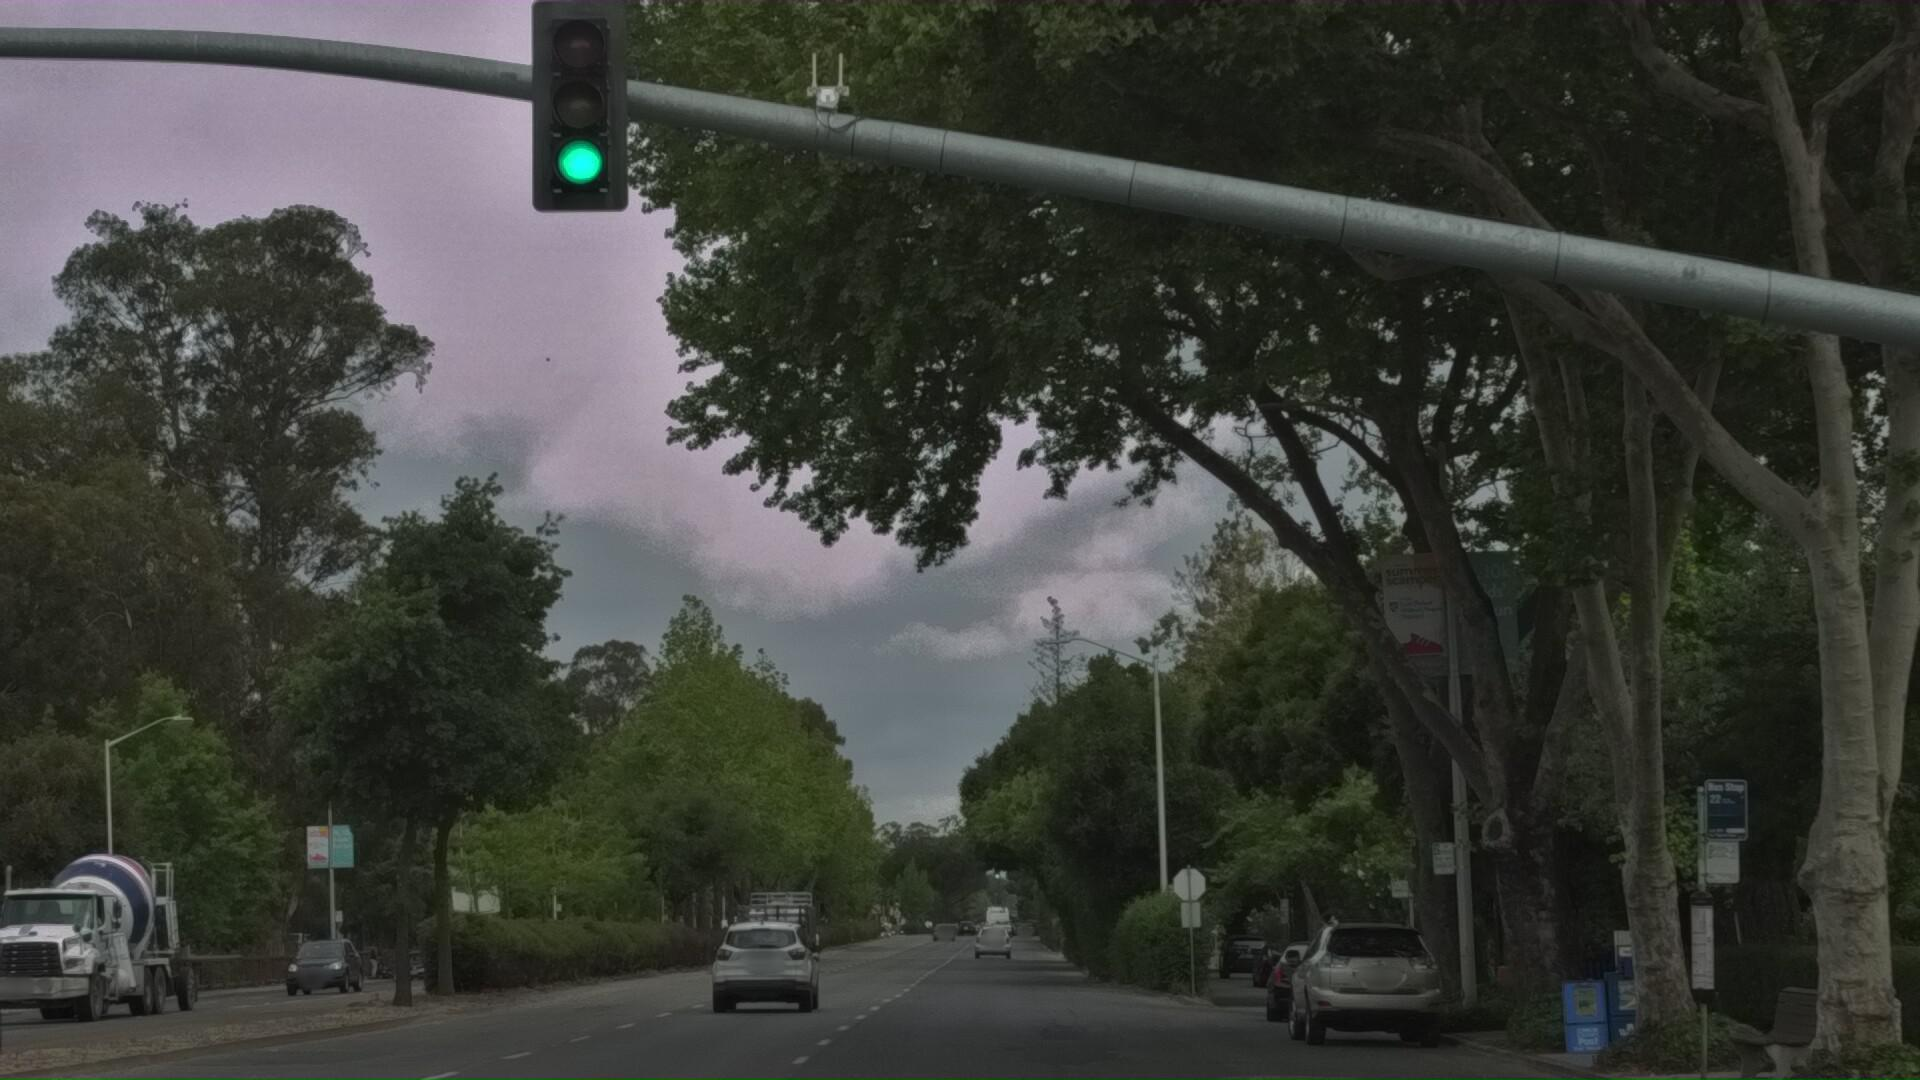car: (1279, 1002, 1451, 1080), (708, 1018, 835, 1080), (1261, 1029, 1385, 1080), (0, 1014, 7, 1080)
truck: (0, 955, 202, 1080)
